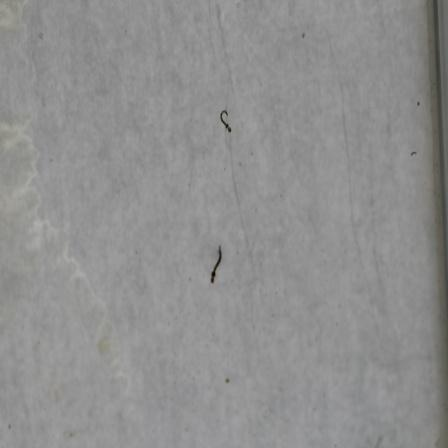Jentik-Nyamuk: (207, 244, 226, 285), (217, 108, 235, 136)
